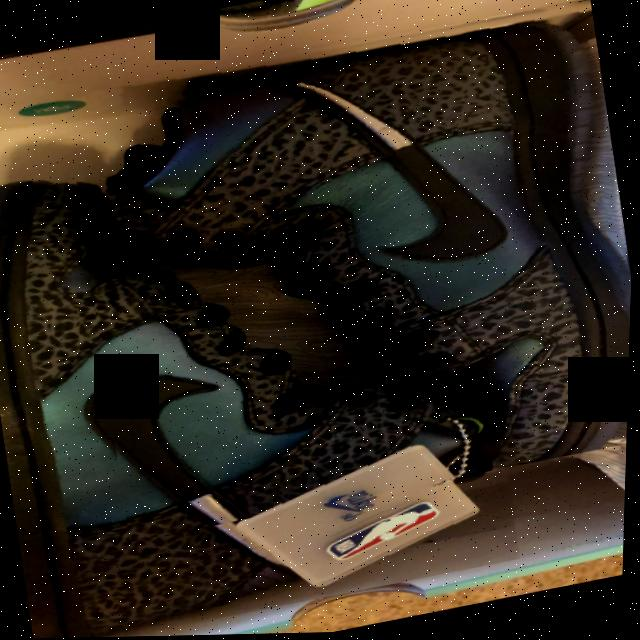shoe: (52, 0, 640, 543), (0, 86, 545, 640)
